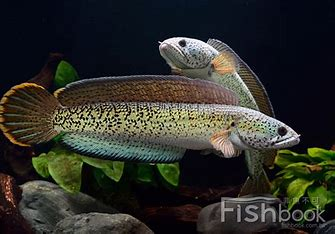Fish: (0, 72, 300, 174), (153, 14, 258, 73)
